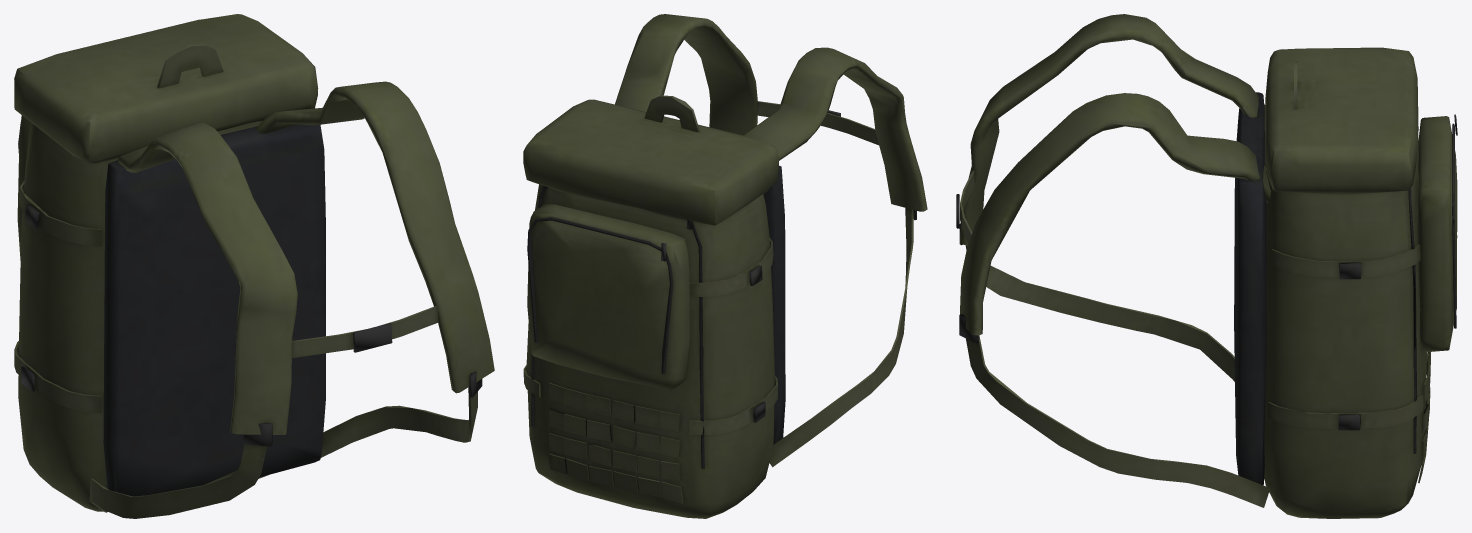
File: backpack_2_lod1.glb
The picture shows the model from 3 angles, left to right: view 1: azimuth 30°, elevation 25°; view 2: azimuth 150°, elevation 25°; view 3: azimuth 270°, elevation 25°; orthographic projection. The views are drawn at different scales.
Parts seen in each view (by area): view 1: body; view 2: body; view 3: body.
Boxes of the visible parts, x1,y1,x2,y2 form: body: (14, 14, 494, 518); body: (523, 14, 927, 518); body: (956, 14, 1457, 518).
Size of the model in its own units: 0.4171 by 0.5625 by 0.6002.
1 material, 1 textured.
